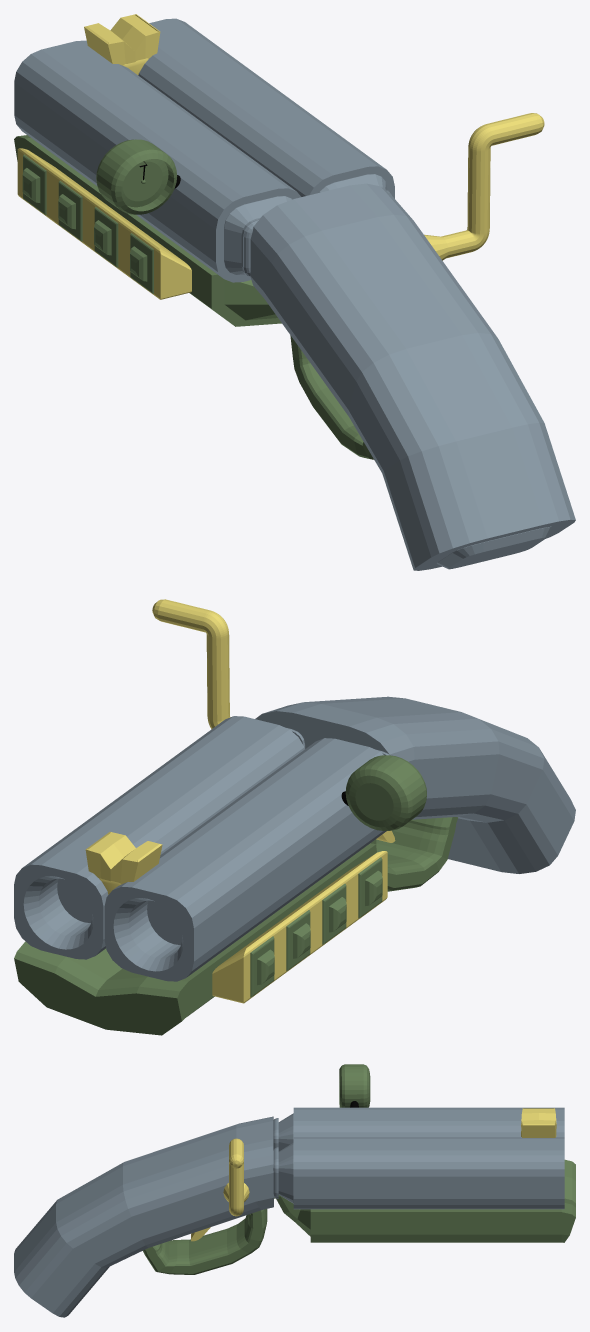
File: Shotgun.glb
3 renders of one model, top to bottom at view 1: azimuth 30°, elevation 25°; view 2: azimuth 150°, elevation 25°; view 3: azimuth 270°, elevation 25°, orthographic. The views are drawn at different scales.
Visible parts, largest first — view 1: Gun_handle, Barrel_left, Barrel_rigth, Barrel_under, Recharger, Kurbli, Barometer, Scope, Trigger_under, Battery2, Battery3, Battery1 (+1 smaller); view 2: Barrel_left, Gun_handle, Barrel_rigth, Barrel_under, Recharger, Barometer, Trigger_under, Kurbli, Scope, Battery1, Battery4, Battery2 (+1 smaller); view 3: Gun_handle, Barrel_rigth, Barrel_under, Barrel_left, Trigger_under, Barometer, Kurbli, Scope.
Boxes of the visible parts, x1,y1,x2,y2 form: Gun_handle: (250,183,575,570); Barrel_left: (14,40,301,282); Barrel_rigth: (138,18,394,198); Barrel_under: (14,135,281,326); Recharger: (17,148,191,299); Kurbli: (424,113,544,260); Barometer: (96,139,177,214); Scope: (84,14,160,65); Trigger_under: (290,335,373,459); Battery2: (58,181,82,241); Battery3: (94,207,118,267); Battery1: (22,154,46,215); Barrel_left: (104,738,389,981); Gun_handle: (255,696,575,873); Barrel_rigth: (14,716,305,959); Barrel_under: (14,843,376,1035); Recharger: (212,851,387,1003); Barometer: (345,755,426,830); Trigger_under: (370,817,457,891); Kurbli: (152,599,230,729); Scope: (85,832,162,884); Battery1: (250,936,274,997); Battery4: (358,857,382,918); Battery2: (286,910,310,971); Gun_handle: (14,1116,273,1317); Barrel_rigth: (273,1137,564,1209); Barrel_under: (274,1159,575,1242); Barrel_left: (273,1107,564,1151); Trigger_under: (143,1209,267,1274); Barometer: (339,1064,370,1107); Kurbli: (223,1138,249,1216); Scope: (521,1108,556,1137).
Size of the model in its own units: 1.91 by 1.6 by 3.93.
